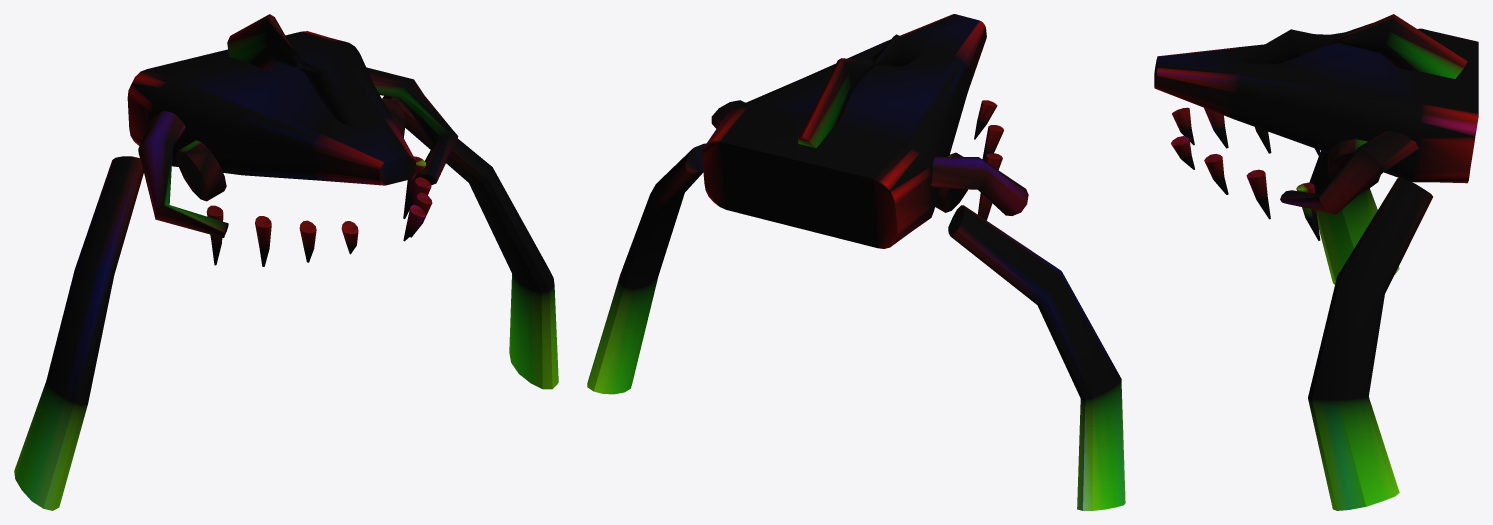
File: hero_leviathan_skull.glb
3 views of the same model, side by side, from view 1: azimuth 30°, elevation 25°; view 2: azimuth 150°, elevation 25°; view 3: azimuth 270°, elevation 25° (orthographic). The views are drawn at different scales.
Parts seen in each view (by area): view 1: HeroLeviathanSkull; view 2: HeroLeviathanSkull; view 3: HeroLeviathanSkull.
Part boxes in pixels (left/top/right/bottom): HeroLeviathanSkull: left=14, top=14, right=558, bottom=510; HeroLeviathanSkull: left=587, top=14, right=1125, bottom=510; HeroLeviathanSkull: left=1154, top=14, right=1478, bottom=510.
Size of the model in its own units: 34.6 by 25.67 by 19.73.
